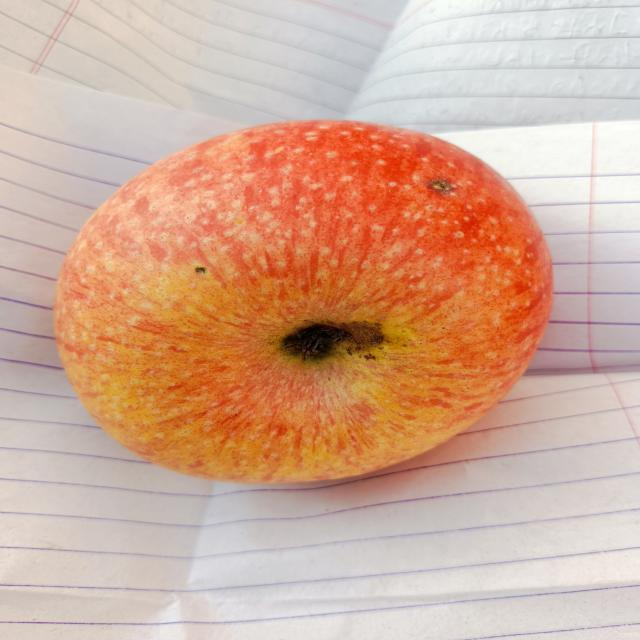Fresh Apple: (55, 123, 556, 487)
